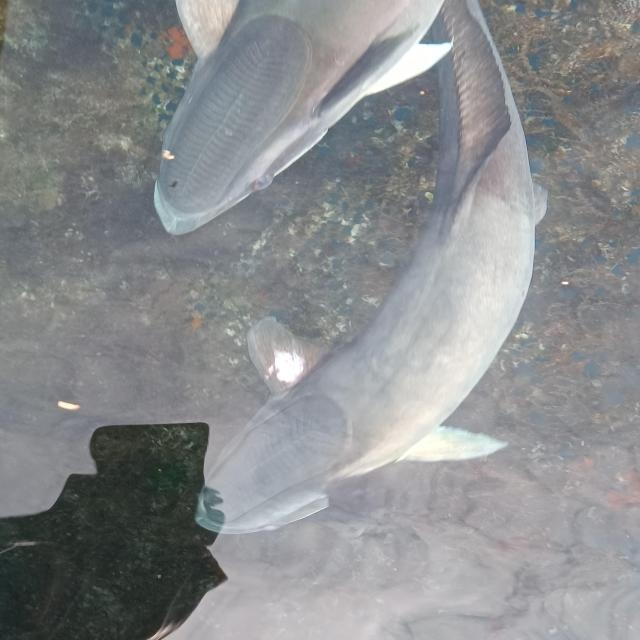ikan: (167, 0, 548, 536), (151, 0, 454, 236)
